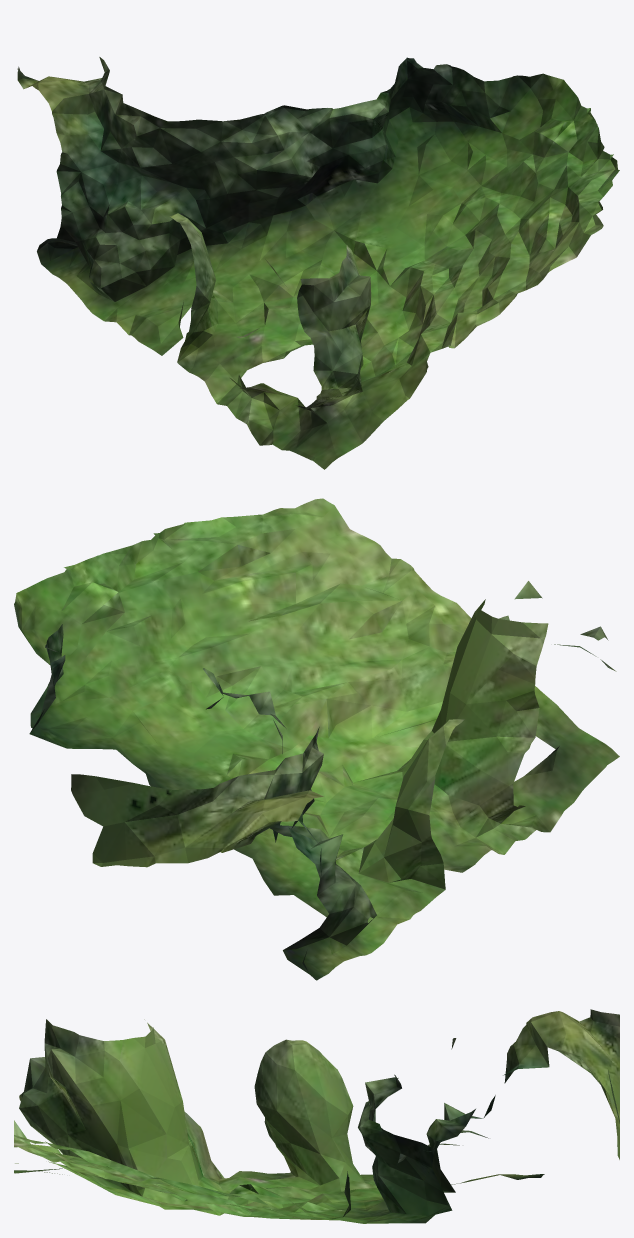
3 views of the same model, one above another, from view 1: azimuth 30°, elevation 25°; view 2: azimuth 150°, elevation 25°; view 3: azimuth 270°, elevation 25° (orthographic). The views are drawn at different scales.
Size of the model in its own units: 18.76 by 8.78 by 26.11.
Materials: 2 (2 with a texture image).
